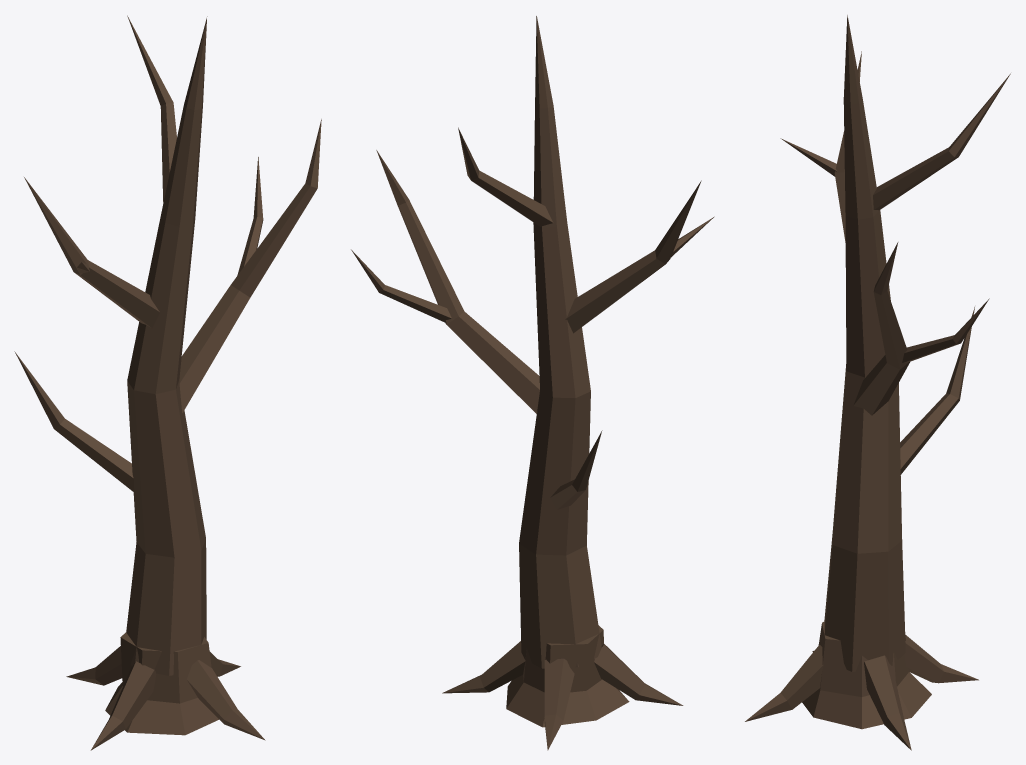
File: TreeDead.fbx
3 renders of one model, left to right at view 1: azimuth 30°, elevation 25°; view 2: azimuth 150°, elevation 25°; view 3: azimuth 270°, elevation 25°, orthographic. The views are drawn at different scales.
Parts seen in each view (by area): view 1: TreeDead; view 2: TreeDead; view 3: TreeDead.
Part boxes in pixels (box(x1,y1,x2,y2)): TreeDead: box(14, 15, 321, 750); TreeDead: box(351, 16, 714, 750); TreeDead: box(745, 15, 1010, 750).
Bounding box in the file's own units: 2.04 × 4.25 × 1.46.
